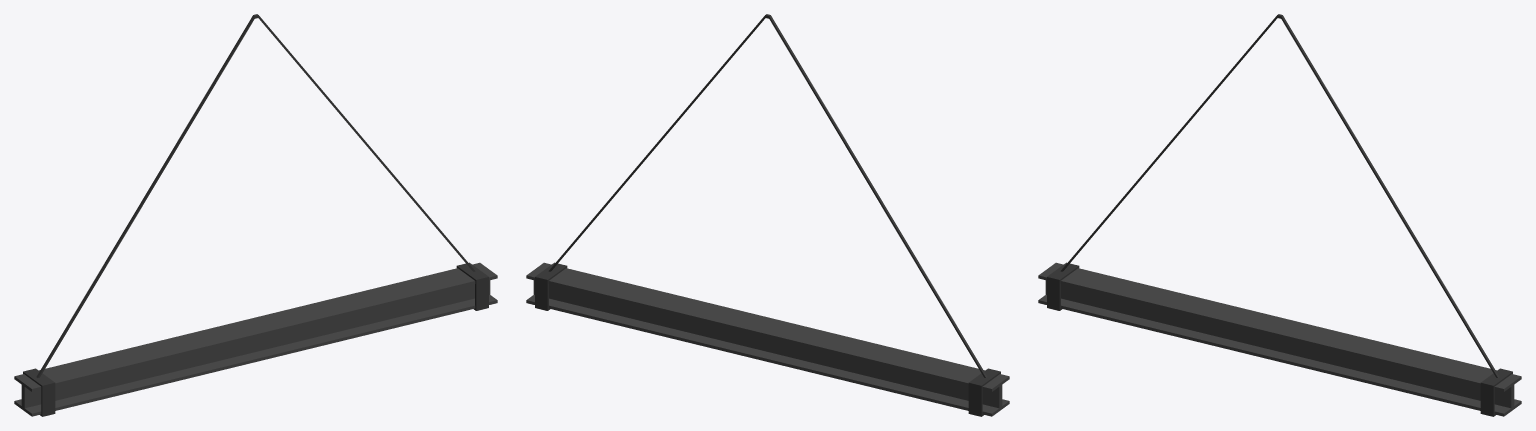
File: ConstructionMat_02.fbx
3 renders of one model, left to right at view 1: azimuth 30°, elevation 25°; view 2: azimuth 150°, elevation 25°; view 3: azimuth 330°, elevation 25°, orthographic.
Parts seen in each view (by area): view 1: ConstructionMat_02; view 2: ConstructionMat_02; view 3: ConstructionMat_02.
Part boxes in pixels (box(x1,y1,x2,y2)): ConstructionMat_02: box(14, 14, 497, 416); ConstructionMat_02: box(526, 14, 1009, 416); ConstructionMat_02: box(1038, 14, 1521, 416).
Bounding box in the file's own units: 485 × 339 × 35.13.
